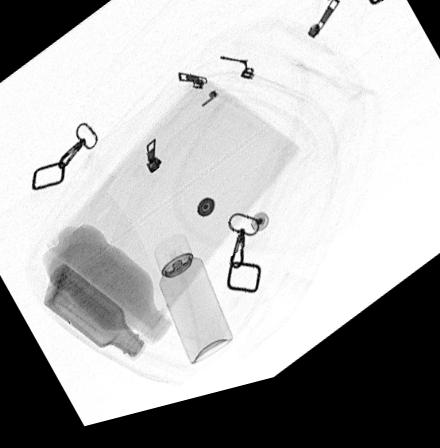Sprayer: (152, 241, 234, 373)
